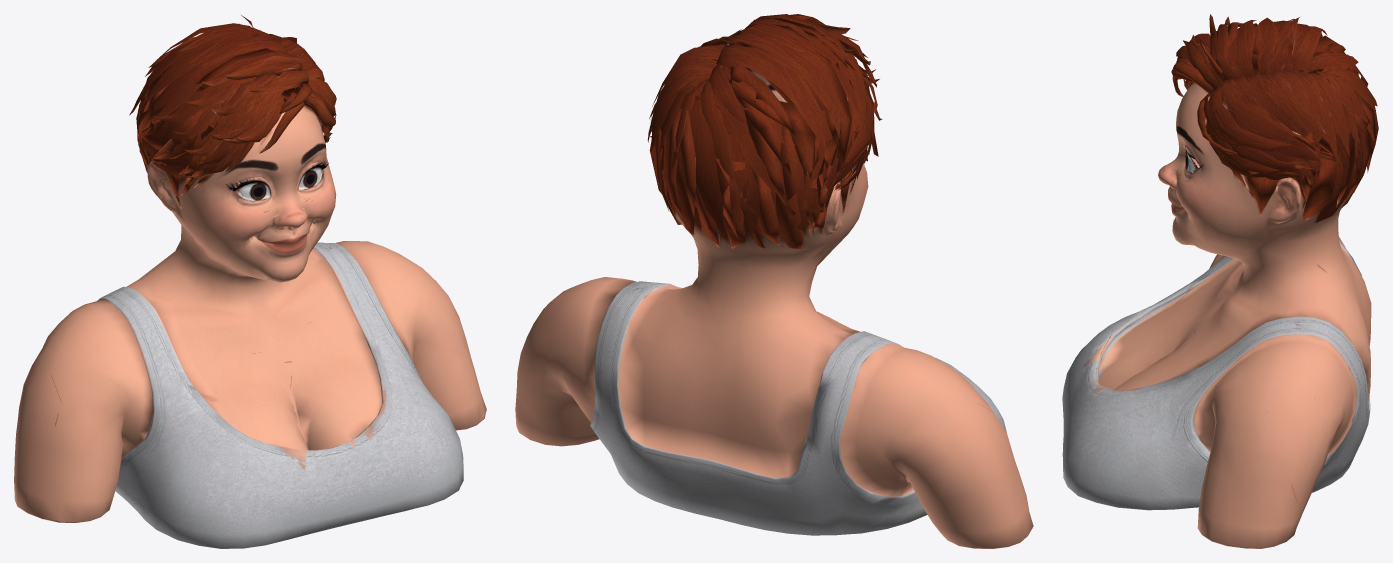
Rendered from tete-roux.glb.
The picture shows the model from 3 angles, left to right: view 1: azimuth 30°, elevation 25°; view 2: azimuth 150°, elevation 25°; view 3: azimuth 270°, elevation 25°; orthographic projection. The views are drawn at different scales.
Bounding box in the file's own units: 0.9565 × 0.8477 × 0.5796.
1 material, 1 textured.
